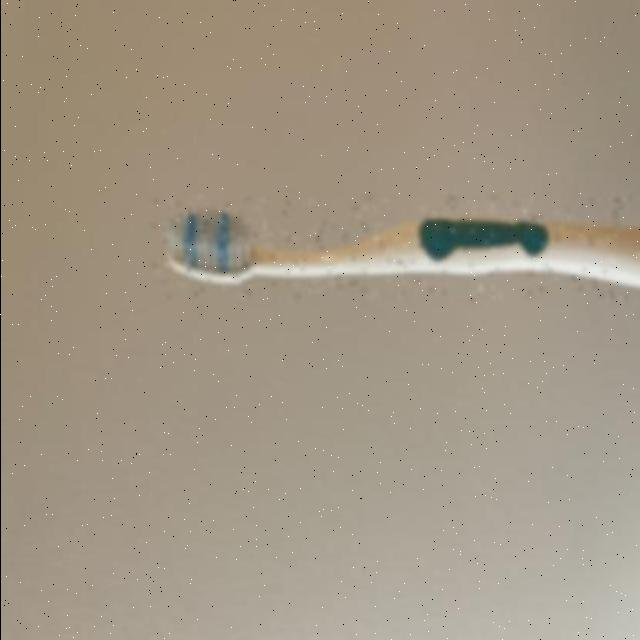toothbrush: (150, 196, 640, 300)
